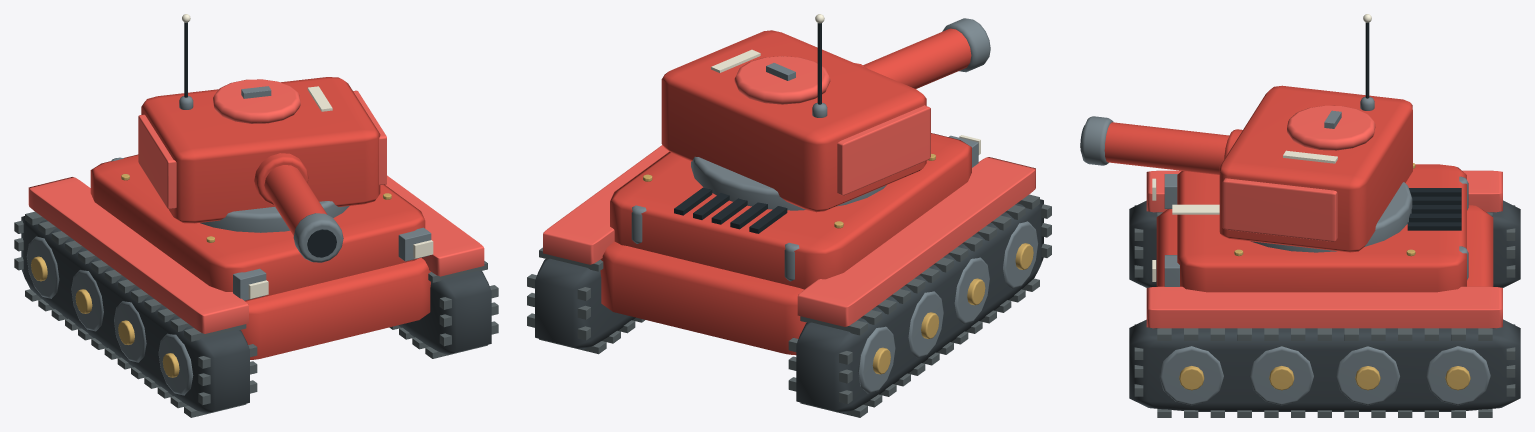
The model's file is tank_03_vermilion_heavy.glb.
3 renders of one model, left to right at view 1: azimuth 30°, elevation 25°; view 2: azimuth 150°, elevation 25°; view 3: azimuth 270°, elevation 25°, orthographic. The views are drawn at different scales.
Visible parts, largest first — view 1: Armored turret, Upper deck.002, Lower hull.002, Track guard.004, Track belt.004, Track belt.005, Track guard.005, Commander hatch.002, Cannon tube.002, Turret cheek, Turret bearing.002, Muzzle rim.002 (+9 smaller); view 2: Armored turret, Upper deck.002, Lower hull.002, Track guard.004, Track belt.004, Track belt.005, Turret cheek, Track guard.005, Cannon tube.002, Commander hatch.002, Turret bearing.002, Road wheel.019 (+4 smaller); view 3: Upper deck.002, Track belt.005, Armored turret, Track guard.005, Turret cheek.001, Cannon tube.002, Track belt.004, Lower hull.002, Commander hatch.002, Road wheel.023, Road wheel.020, Road wheel.022 (+17 smaller).
Part boxes in pixels (box(x1,y1,x2,y2)): Armored turret: box(141, 77, 380, 223); Upper deck.002: box(90, 154, 425, 301); Lower hull.002: box(241, 257, 430, 359); Track guard.004: box(28, 177, 248, 333); Track belt.004: box(21, 216, 249, 413); Track belt.005: box(398, 271, 491, 354); Track guard.005: box(385, 175, 484, 276); Commander hatch.002: box(213, 79, 300, 123); Cannon tube.002: box(264, 165, 327, 235); Turret cheek: box(138, 114, 176, 209); Turret bearing.002: box(200, 201, 349, 232); Muzzle rim.002: box(293, 213, 343, 262); Armored turret: box(661, 30, 926, 212); Upper deck.002: box(610, 133, 971, 289); Lower hull.002: box(600, 241, 806, 355); Track guard.004: box(797, 157, 1035, 326); Track belt.004: box(796, 199, 1043, 413); Track belt.005: box(535, 258, 635, 349); Turret cheek: box(837, 105, 930, 195); Track guard.005: box(543, 145, 669, 264); Cannon tube.002: box(863, 28, 971, 88); Commander hatch.002: box(734, 56, 830, 104); Turret bearing.002: box(691, 156, 886, 210); Road wheel.019: box(858, 326, 895, 393); Upper deck.002: box(1177, 164, 1466, 292); Track belt.005: box(1129, 319, 1520, 411); Armored turret: box(1219, 85, 1412, 252); Track guard.005: box(1146, 286, 1502, 328); Turret cheek.001: box(1222, 178, 1337, 241); Cannon tube.002: box(1104, 122, 1229, 174); Track belt.004: box(1129, 200, 1520, 287); Lower hull.002: box(1156, 205, 1493, 286); Commander hatch.002: box(1287, 105, 1375, 150); Road wheel.023: box(1425, 346, 1490, 405); Road wheel.020: box(1159, 346, 1223, 405); Road wheel.022: box(1335, 346, 1399, 405).
Bounding box in the file's own units: 1.86 × 1.75 × 2.28.
